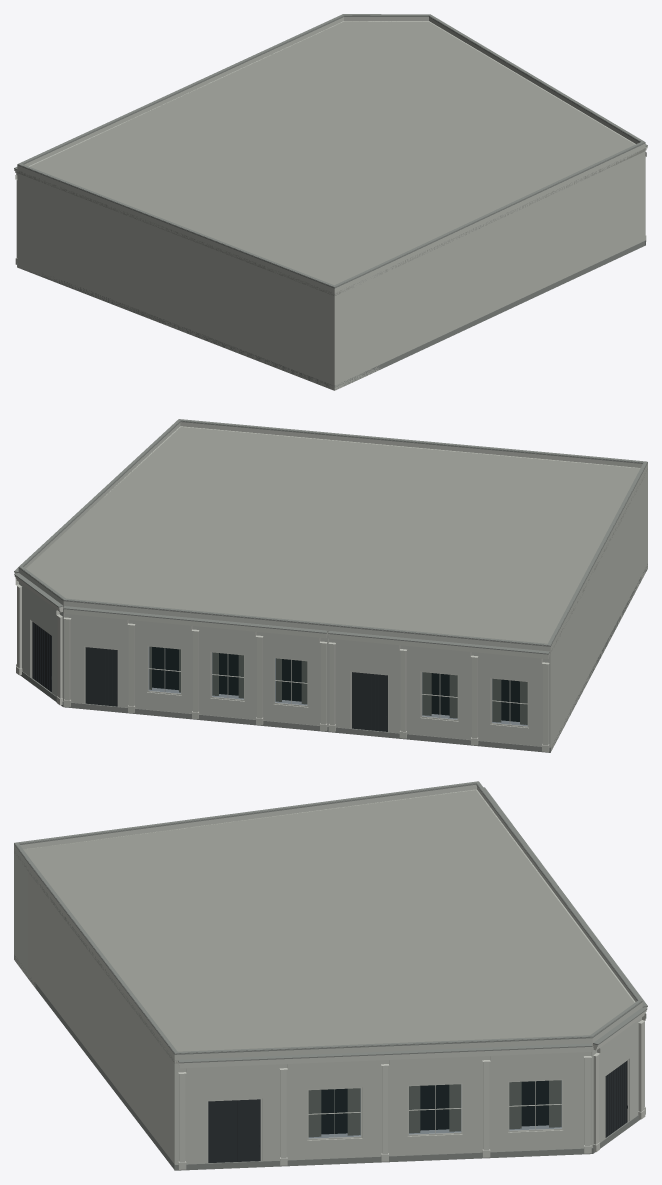
File: building.glb
The picture shows the model from 3 angles, top to bottom: view 1: azimuth 30°, elevation 25°; view 2: azimuth 150°, elevation 25°; view 3: azimuth 270°, elevation 25°; orthographic projection. The views are drawn at different scales.
Visible parts, largest first — view 1: roof/bank:0/roof_slab#0001, bank:0/edge0/z0/bank:0/edge0/z0/wall_0_0, bank:0/edge3/z0/bank:0/edge3/z0/wall_0_0, roof/bank:0/parapet#0001, roof/bank:0/parapet_cap#0002, bank:0/edge1/z0/bank:0/edge1/z0/wall_0_0, roof/bank:0/parapet_cap#0001, bank:0/edge3/z0/plinth#0001, bank:0/edge2/z0/bank:0/edge2/z0/wall_0_0, bank:0/edge0/z0/plinth#0001; view 2: roof/bank:0/roof_slab#0001, bank:0/edge0/z0/bank:0/edge0/z0/wall_0_0, roof/bank:0/parapet#0001, bank:0/edge7/z0/bank:0/edge7/z0/wall_0_0/clip12, bank:0/edge8/z0/bank:0/edge8/z0/wall_0_0/clip10, roof/bank:0/parapet_cap#0002, bank:0/edge7/z0/bank:0/edge7/z0/wall_0_0/clip2, bank:0/edge8/z0/bank:0/edge8/z0/wall_0_0/clip2, roof/bank:0/parapet_cap#0001, bank:0/edge6/z0/bank:0/edge6/z0/wall_0_0, bank:0/edge8/z0/opening_u1.08_v0.05/door_leaf#0001, bank:0/edge7/z0/opening_u1.00_v0.05/door_leaf#0001 (+40 smaller); view 3: roof/bank:0/roof_slab#0001, bank:0/edge5/z0/bank:0/edge5/z0/wall_0_0, bank:0/edge3/z0/bank:0/edge3/z0/wall_0_0, roof/bank:0/parapet#0001, roof/bank:0/parapet_cap#0002, bank:0/edge5/z0/opening_u1.30_v0.05/door_leaf#0001, bank:0/edge5/z0/plinth#0001, bank:0/edge6/z0/bank:0/edge6/z0/wall_0_0, bank:0/edge5/z0/opening_u5.77_v1.20/glazing#0001, bank:0/edge5/z0/opening_u14.70_v1.20/glazing#0001, bank:0/edge5/z0/opening_u10.24_v1.20/glazing#0001, roof/bank:0/parapet_cap#0001 (+15 smaller).
Boxes of the visible parts, x1,y1,x2,y2 form: roof/bank:0/roof_slab#0001: (17,21,645,295); bank:0/edge0/z0/bank:0/edge0/z0/wall_0_0: (17,170,334,390); bank:0/edge3/z0/bank:0/edge3/z0/wall_0_0: (377,149,645,370); roof/bank:0/parapet#0001: (17,17,645,292); roof/bank:0/parapet_cap#0002: (18,14,644,287); bank:0/edge1/z0/bank:0/edge1/z0/wall_0_0: (334,280,362,390); roof/bank:0/parapet_cap#0001: (17,15,645,288); bank:0/edge3/z0/plinth#0001: (377,240,645,370); bank:0/edge2/z0/bank:0/edge2/z0/wall_0_0: (363,273,377,377); bank:0/edge0/z0/plinth#0001: (22,269,334,389); roof/bank:0/roof_slab#0001: (26,427,647,651); bank:0/edge0/z0/bank:0/edge0/z0/wall_0_0: (550,468,647,750); roof/bank:0/parapet#0001: (18,422,647,651); bank:0/edge7/z0/bank:0/edge7/z0/wall_0_0/clip12: (63,606,328,662); bank:0/edge8/z0/bank:0/edge8/z0/wall_0_0/clip10: (328,631,550,683); roof/bank:0/parapet_cap#0002: (19,419,647,645); bank:0/edge7/z0/bank:0/edge7/z0/wall_0_0/clip2: (118,690,328,726); bank:0/edge8/z0/bank:0/edge8/z0/wall_0_0/clip2: (389,715,550,747); roof/bank:0/parapet_cap#0001: (18,421,647,646); bank:0/edge6/z0/bank:0/edge6/z0/wall_0_0: (19,582,63,701); bank:0/edge8/z0/opening_u1.08_v0.05/door_leaf#0001: (352,672,387,731); bank:0/edge7/z0/opening_u1.00_v0.05/door_leaf#0001: (85,647,117,706); roof/bank:0/roof_slab#0001: (14,789,634,1063); bank:0/edge5/z0/bank:0/edge5/z0/wall_0_0: (177,1043,592,1164); bank:0/edge3/z0/bank:0/edge3/z0/wall_0_0: (35,878,174,1163); roof/bank:0/parapet#0001: (14,785,642,1059); roof/bank:0/parapet_cap#0002: (14,781,642,1053); bank:0/edge5/z0/opening_u1.30_v0.05/door_leaf#0001: (208,1099,260,1162); bank:0/edge5/z0/plinth#0001: (177,1148,592,1170); bank:0/edge6/z0/bank:0/edge6/z0/wall_0_0: (592,1017,641,1147); bank:0/edge5/z0/opening_u5.77_v1.20/glazing#0001: (308,1088,360,1138); bank:0/edge5/z0/opening_u14.70_v1.20/glazing#0001: (509,1080,561,1130); bank:0/edge5/z0/opening_u10.24_v1.20/glazing#0001: (409,1084,461,1134); roof/bank:0/parapet_cap#0001: (14,783,642,1054).
Size of the model in its own units: 28.84 by 5.72 by 28.08.
